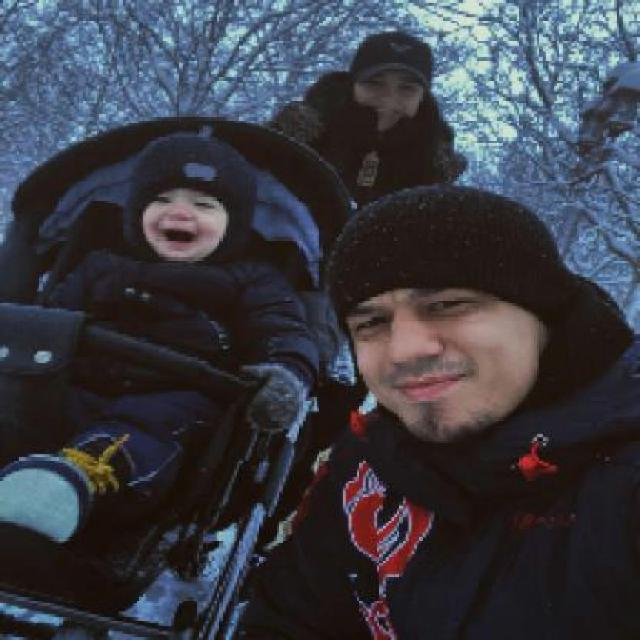child: (3, 128, 326, 548)
